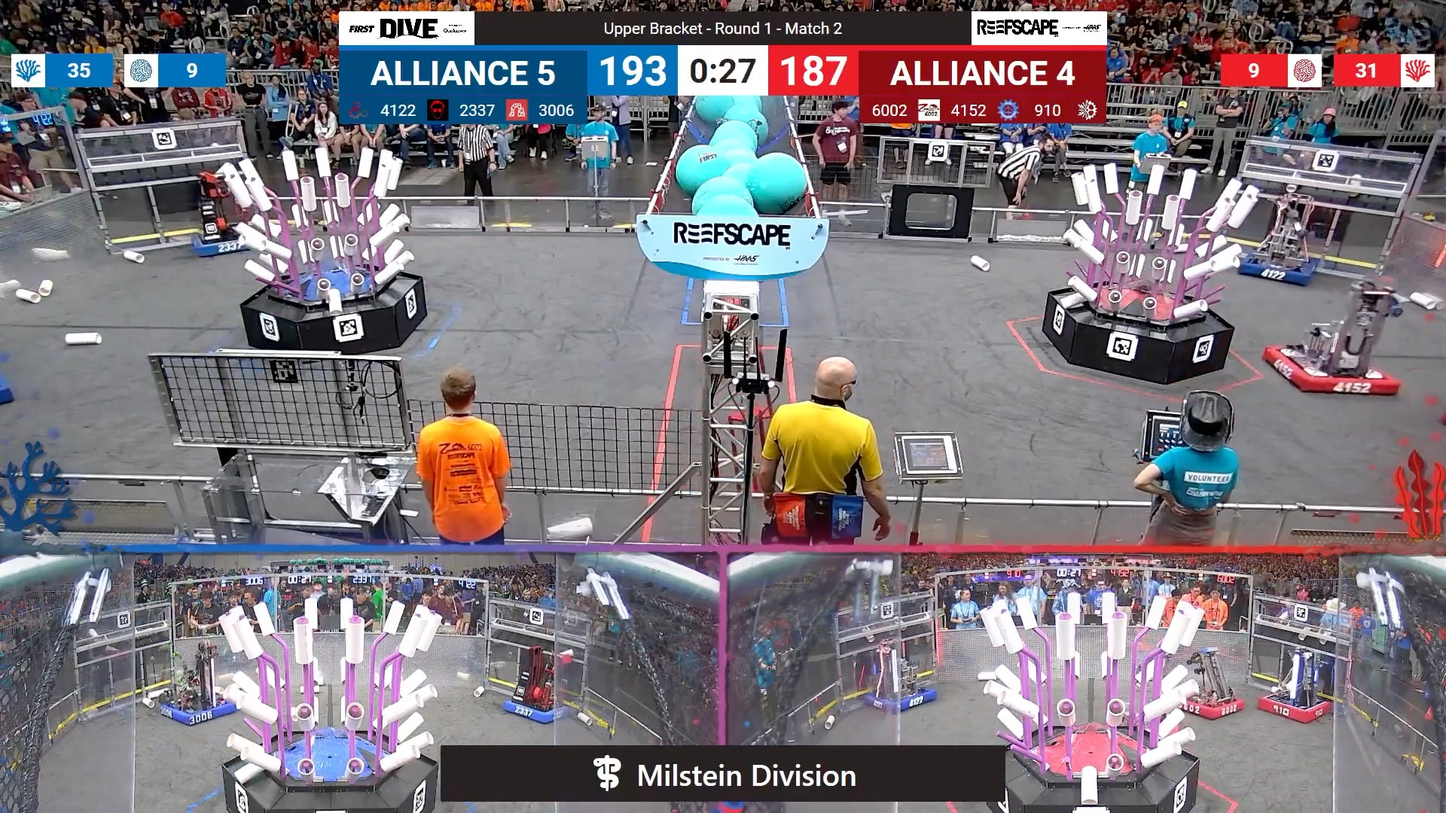bumpers: (1255, 341, 1404, 403), (1228, 249, 1328, 288), (153, 691, 244, 731), (1251, 690, 1338, 725), (860, 683, 944, 716), (496, 693, 574, 727), (185, 227, 262, 260), (1174, 688, 1249, 721), (0, 359, 20, 425)
